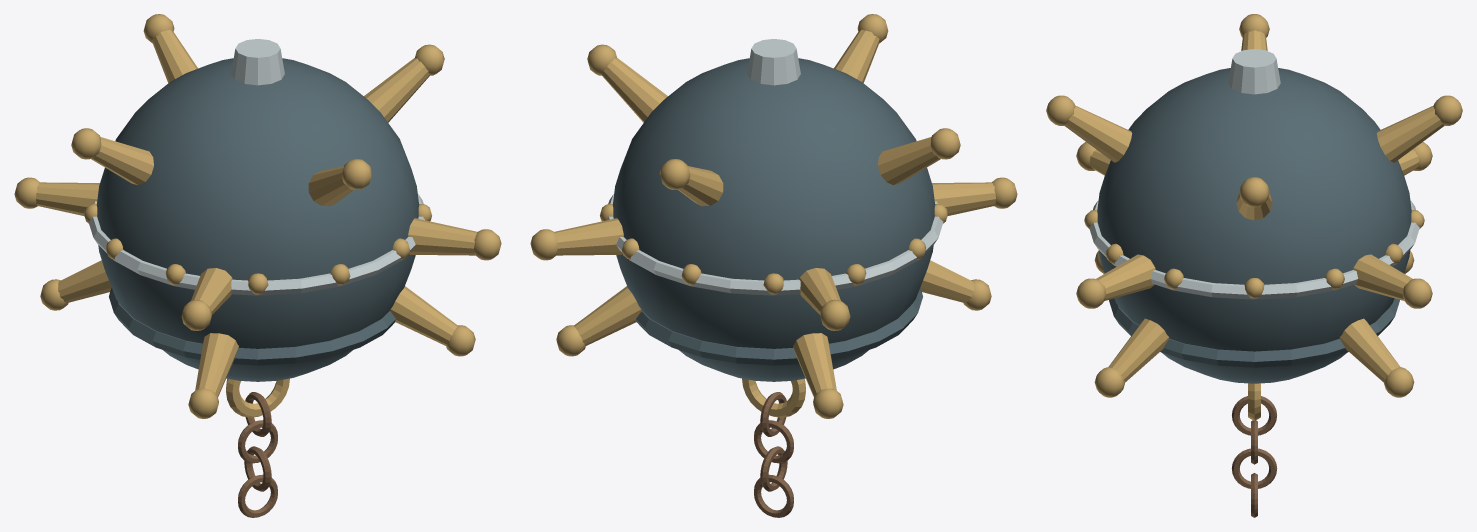
The model's file is naval-mine.glb.
3 renders of one model, left to right at view 1: azimuth 30°, elevation 25°; view 2: azimuth 150°, elevation 25°; view 3: azimuth 270°, elevation 25°, orthographic. The views are drawn at different scales.
Parts seen in each view (by area): view 1: NavalMine_AZ_Mine_Iron, NavalMine_AZ_Mine_Contacts, NavalMine_AZ_Brushed_Aluminium, NavalMine_AZ_Anchor_Chain; view 2: NavalMine_AZ_Mine_Iron, NavalMine_AZ_Mine_Contacts, NavalMine_AZ_Brushed_Aluminium, NavalMine_AZ_Anchor_Chain; view 3: NavalMine_AZ_Mine_Iron, NavalMine_AZ_Mine_Contacts, NavalMine_AZ_Brushed_Aluminium, NavalMine_AZ_Anchor_Chain.
Boxes of the visible parts, x1,y1,x2,y2 form: NavalMine_AZ_Mine_Iron: [96, 58, 419, 381]; NavalMine_AZ_Mine_Contacts: [14, 14, 501, 418]; NavalMine_AZ_Brushed_Aluminium: [88, 39, 424, 295]; NavalMine_AZ_Anchor_Chain: [238, 392, 277, 517]; NavalMine_AZ_Mine_Iron: [612, 58, 935, 381]; NavalMine_AZ_Mine_Contacts: [530, 14, 1017, 418]; NavalMine_AZ_Brushed_Aluminium: [607, 39, 943, 295]; NavalMine_AZ_Anchor_Chain: [754, 392, 793, 517]; NavalMine_AZ_Mine_Iron: [1097, 68, 1411, 383]; NavalMine_AZ_Mine_Contacts: [1046, 14, 1462, 420]; NavalMine_AZ_Brushed_Aluminium: [1089, 49, 1419, 299]; NavalMine_AZ_Anchor_Chain: [1231, 396, 1277, 517].
Size of the model in its own units: 0.6217 by 0.756 by 0.624.
